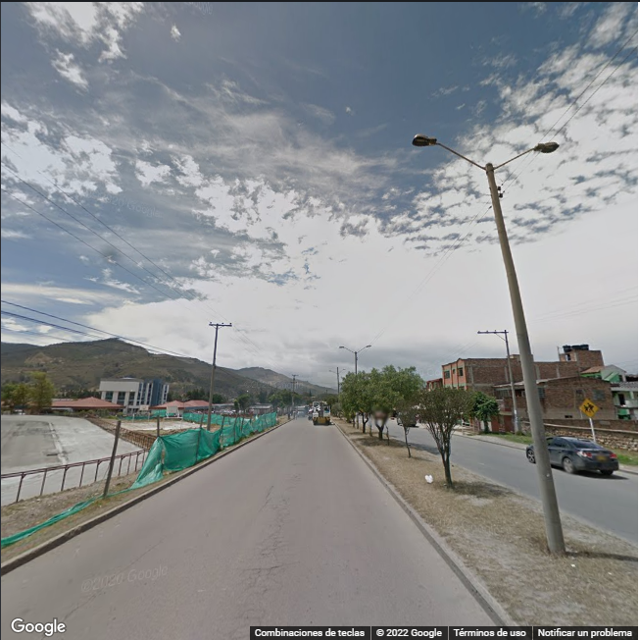D00: (60, 530, 171, 620), (265, 522, 285, 569)
